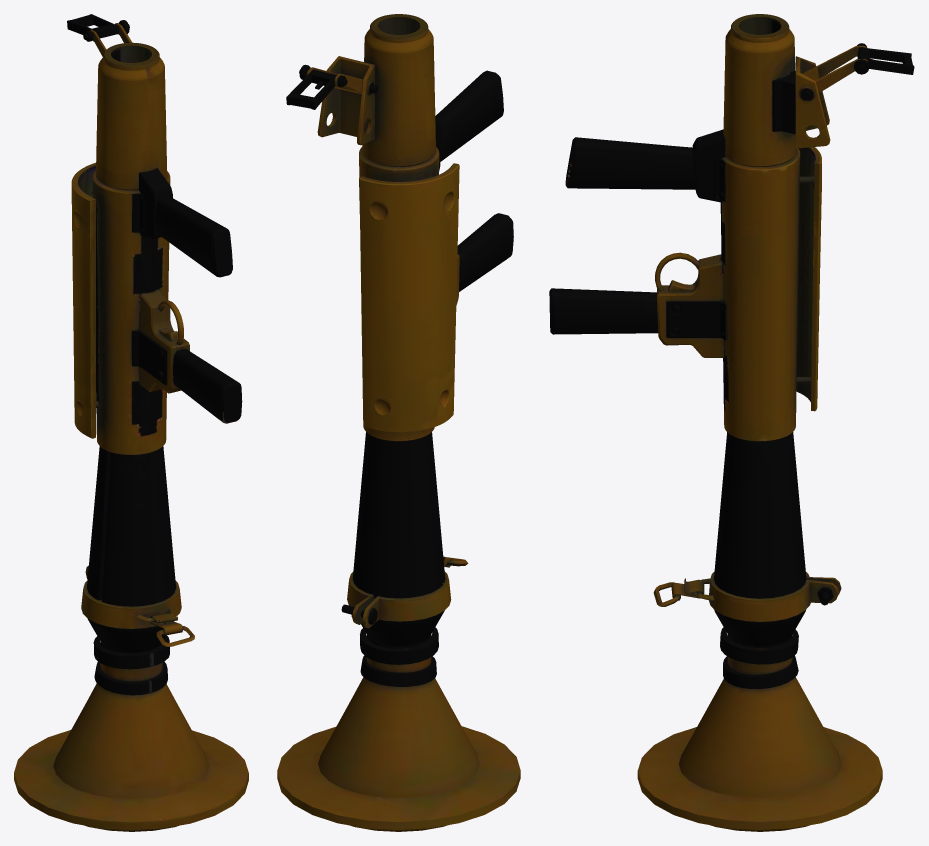
The picture shows the model from 3 angles, left to right: view 1: azimuth 30°, elevation 25°; view 2: azimuth 150°, elevation 25°; view 3: azimuth 270°, elevation 25°; orthographic projection. The views are drawn at different scales.
Visible parts, largest first — view 1: body0_model0_lod0_mesh0; view 2: body0_model0_lod0_mesh0; view 3: body0_model0_lod0_mesh0.
Part boxes in pixels (box(x1,y1,x2,y2)): body0_model0_lod0_mesh0: box(14, 14, 248, 831); body0_model0_lod0_mesh0: box(277, 14, 520, 831); body0_model0_lod0_mesh0: box(549, 14, 914, 831).
Size of the model in its own units: 16.52 by 57.68 by 24.82.
Materials: 1 (1 with a texture image).
